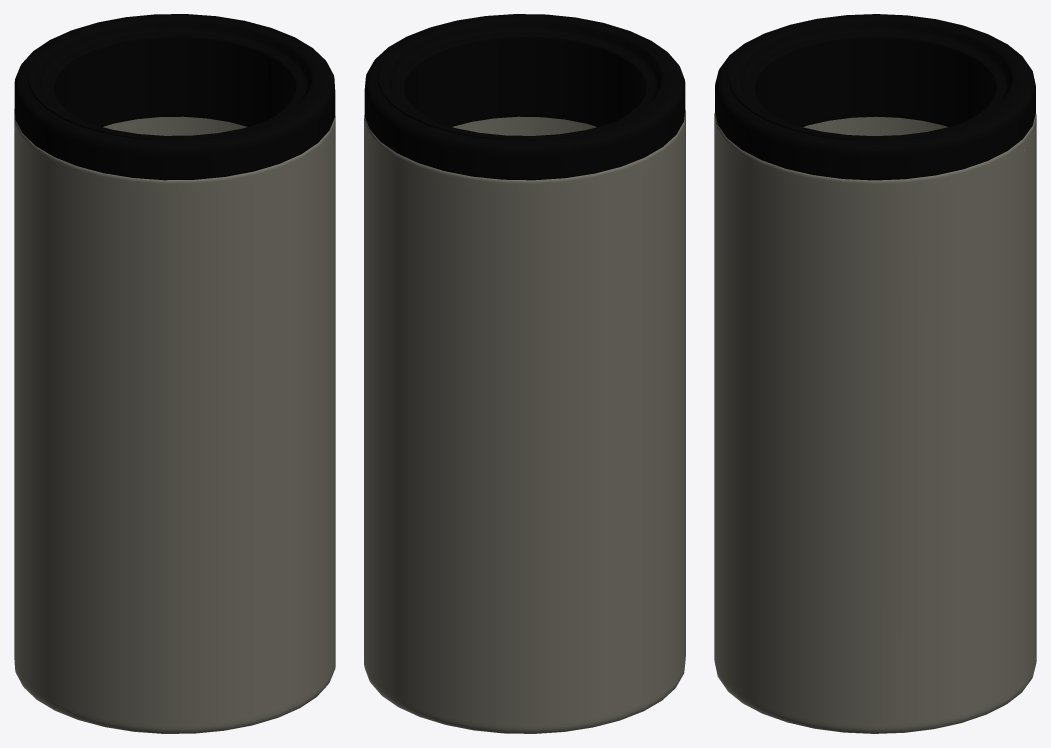
Rendered from Zappa Skinny- v3.glb.
3 renders of one model, left to right at view 1: azimuth 30°, elevation 25°; view 2: azimuth 150°, elevation 25°; view 3: azimuth 270°, elevation 25°, orthographic.
Parts seen in each view (by area): view 1: Object001, Cylinder002, Cylinder001; view 2: Object001, Cylinder002, Cylinder001; view 3: Object001, Cylinder002, Cylinder001.
Part boxes in pixels (left/top/right/bottom): Object001: left=14, top=124, right=335, bottom=724; Cylinder002: left=14, top=14, right=335, bottom=180; Cylinder001: left=14, top=108, right=335, bottom=733; Object001: left=364, top=121, right=685, bottom=724; Cylinder002: left=364, top=14, right=685, bottom=180; Cylinder001: left=364, top=109, right=685, bottom=733; Object001: left=714, top=124, right=1036, bottom=724; Cylinder002: left=715, top=14, right=1035, bottom=180; Cylinder001: left=714, top=113, right=1036, bottom=733.
Size of the model in its own units: 0.073 by 0.1478 by 0.073.
Materials: 3 (1 with a texture image).
